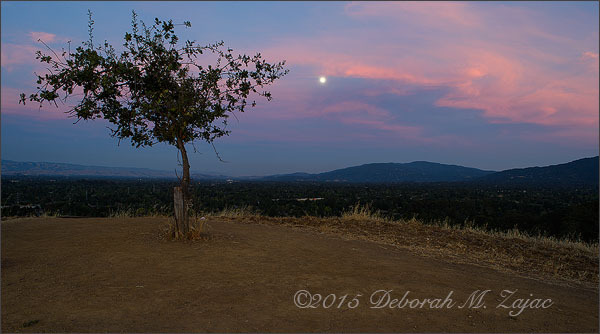tree: (18, 7, 291, 240)
